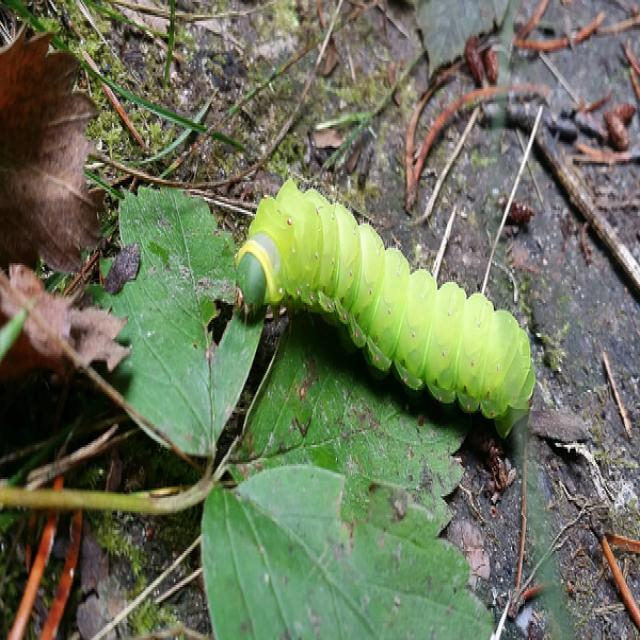caterpillar: (227, 165, 536, 432)
